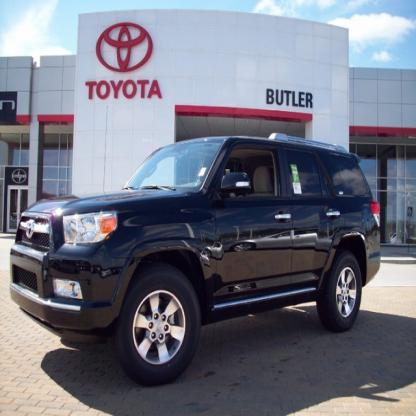Vehicle: (9, 132, 382, 387)
